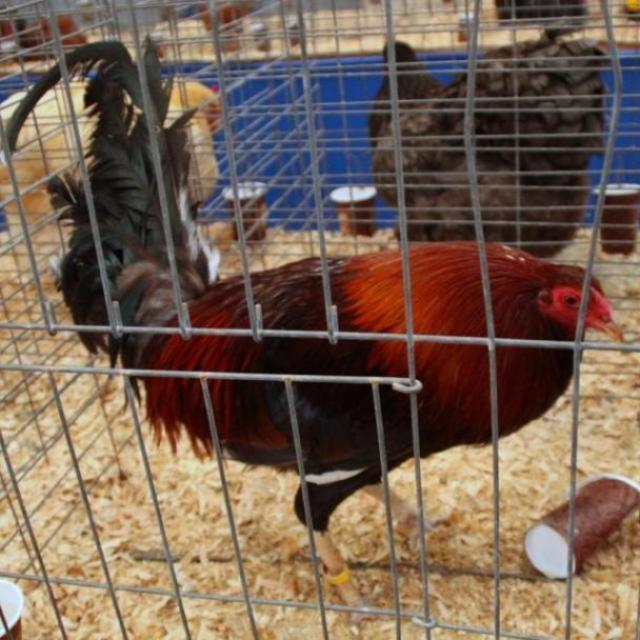Chicken: (51, 101, 623, 604), (367, 14, 611, 259)
